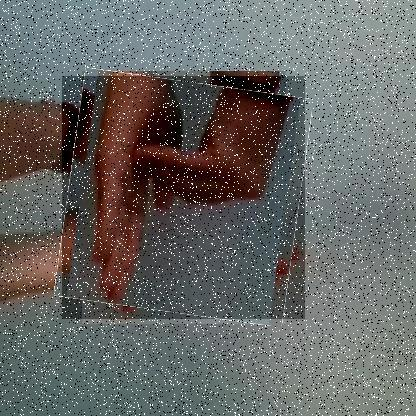Z: (62, 76, 306, 320)
